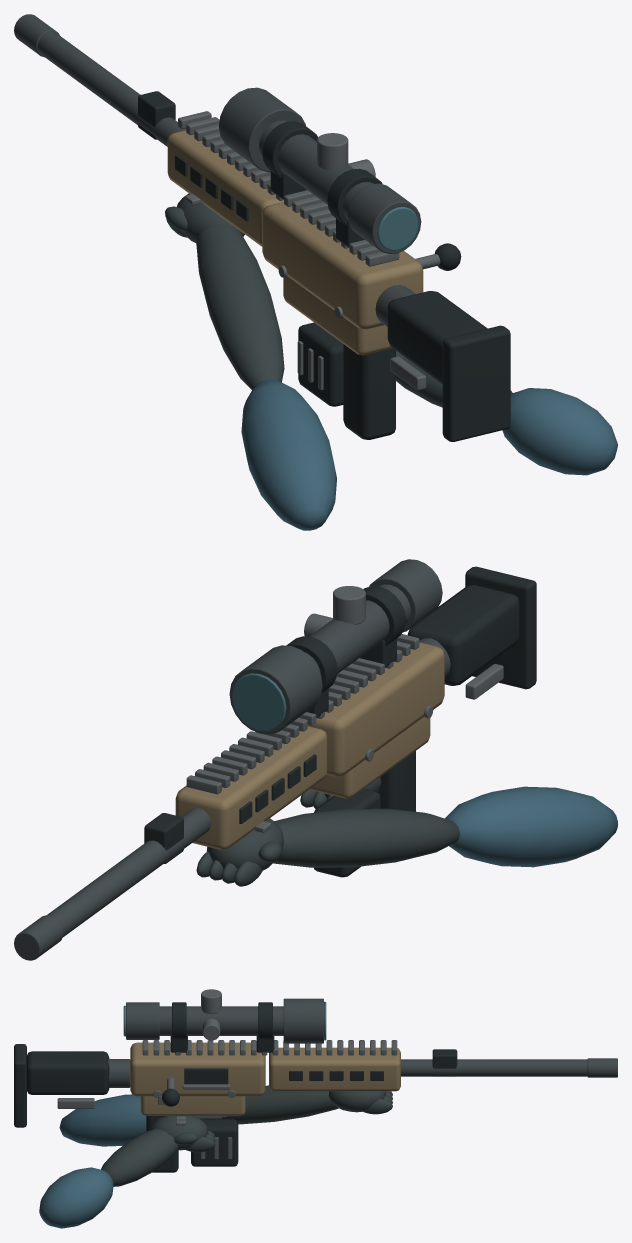
File: view_awp.glb
3 renders of one model, top to bottom at view 1: azimuth 30°, elevation 25°; view 2: azimuth 150°, elevation 25°; view 3: azimuth 270°, elevation 25°, orthographic. The views are drawn at different scales.
Parts seen in each view (by area): view 1: weapon_body_mesh.002, support_hand_mesh.002, trigger_hand_mesh.002, magazine_mesh.002, bolt_mesh.002; view 2: weapon_body_mesh.002, support_hand_mesh.002, magazine_mesh.002, trigger_hand_mesh.002; view 3: weapon_body_mesh.002, trigger_hand_mesh.002, support_hand_mesh.002, magazine_mesh.002, bolt_mesh.002.
Part boxes in pixels (x1=…): weapon_body_mesh.002: x1=14, y1=14, x2=510, y2=441; support_hand_mesh.002: x1=165, y1=193, x2=336, y2=530; trigger_hand_mesh.002: x1=396, y1=350, x2=617, y2=475; magazine_mesh.002: x1=297, y1=322, x2=343, y2=406; bolt_mesh.002: x1=415, y1=243, x2=461, y2=270; weapon_body_mesh.002: x1=14, y1=559, x2=536, y2=960; support_hand_mesh.002: x1=196, y1=786, x2=617, y2=886; magazine_mesh.002: x1=314, y1=789, x2=380, y2=877; trigger_hand_mesh.002: x1=300, y1=777, x2=381, y2=808; weapon_body_mesh.002: x1=14, y1=989, x2=617, y2=1172; trigger_hand_mesh.002: x1=39, y1=1116, x2=215, y2=1228; support_hand_mesh.002: x1=59, y1=1085, x2=392, y2=1146; magazine_mesh.002: x1=191, y1=1119, x2=238, y2=1166; bolt_mesh.002: x1=162, y1=1077, x2=179, y2=1106.
Size of the model in its own units: 0.7241 by 0.6163 by 1.79.
